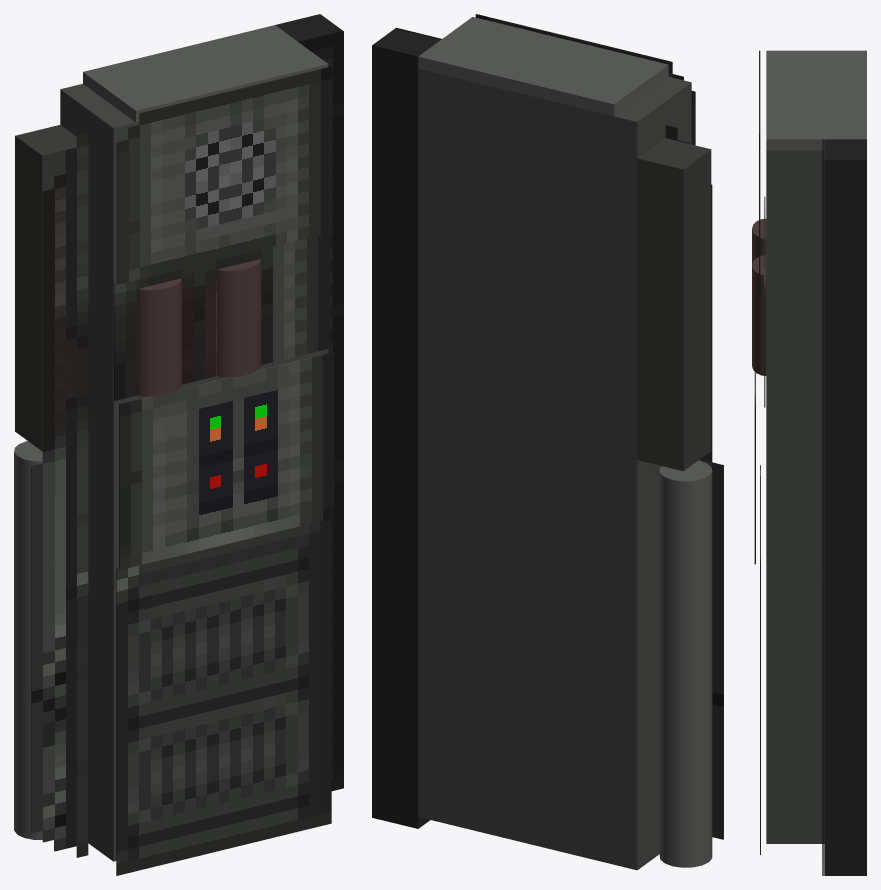
File: CMU3DRMCMachinePropBig12FlippedNorth.glb
3 views of the same model, side by side, from view 1: azimuth 30°, elevation 25°; view 2: azimuth 150°, elevation 25°; view 3: azimuth 270°, elevation 25° (orthographic). The views are drawn at different scales.
Parts seen in each view (by area): view 1: source side-depth details, animated paired control bank, bottom grille, upper perforated vent, upper lower-case grille, continuous tall cabinet, paired copper cartridge backing, cast top shoulder, upper side casing, rear mounting spine artwork, copper vertical cartridge (×2), exposed side conduit (+1 smaller); view 2: continuous tall cabinet, dark rear mounting spine, upper side casing, exposed side conduit, cast top shoulder, source side-depth details, upper perforated vent; view 3: continuous tall cabinet, dark rear mounting spine, cast top shoulder, copper vertical cartridge (×2), rear mounting spine artwork, upper perforated vent, paired copper cartridge backing, animated paired control bank.
Boxes of the visible parts, bbox=[...] form: source side-depth details: bbox=[31, 133, 88, 857]; animated paired control bank: bbox=[119, 352, 334, 570]; bottom grille: bbox=[116, 658, 331, 875]; upper perforated vent: bbox=[116, 66, 331, 284]; upper lower-case grille: bbox=[116, 518, 331, 710]; continuous tall cabinet: bbox=[60, 84, 328, 861]; paired copper cartridge backing: bbox=[114, 233, 329, 400]; cast top shoulder: bbox=[83, 25, 328, 122]; upper side casing: bbox=[15, 125, 76, 451]; rear mounting spine artwork: bbox=[298, 31, 343, 791]; copper vertical cartridge (×2): bbox=[138, 259, 261, 396]; exposed side conduit: bbox=[14, 441, 42, 839]; continuous tall cabinet: bbox=[418, 68, 691, 870]; dark rear mounting spine: bbox=[372, 28, 440, 828]; upper side casing: bbox=[637, 138, 711, 471]; exposed side conduit: bbox=[659, 460, 712, 867]; cast top shoulder: bbox=[418, 17, 668, 116]; source side-depth details: bbox=[665, 125, 723, 839]; upper perforated vent: bbox=[475, 14, 695, 145]; continuous tall cabinet: bbox=[766, 150, 824, 843]; dark rear mounting spine: bbox=[824, 139, 866, 875]; cast top shoulder: bbox=[766, 50, 866, 150]; copper vertical cartridge (×2): bbox=[752, 218, 766, 375]; rear mounting spine artwork: bbox=[822, 139, 823, 875]; upper perforated vent: bbox=[759, 50, 760, 295]; paired copper cartridge backing: bbox=[764, 196, 765, 407]; animated paired control bank: bbox=[754, 372, 755, 564].
Size of what is drawn, in the model's own units: 0.875 by 2 by 0.291.
12 materials, 7 textured.
